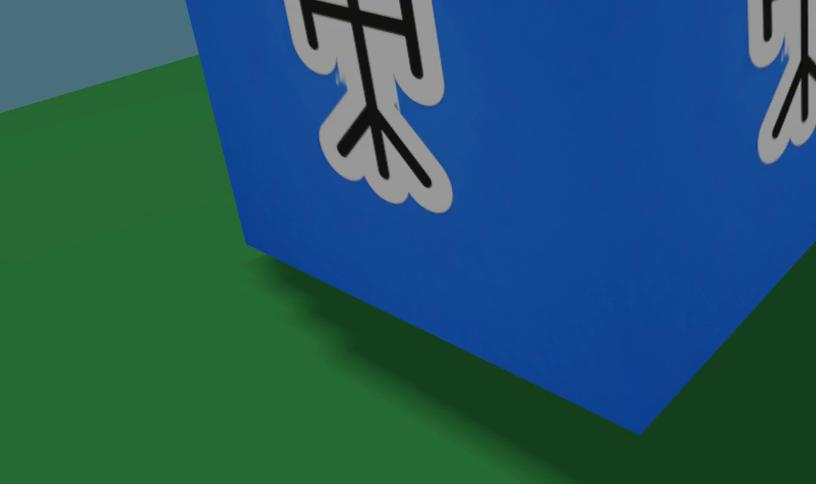KFS_REAL: (184, 0, 816, 429), (283, 0, 452, 212), (747, 0, 816, 163)
